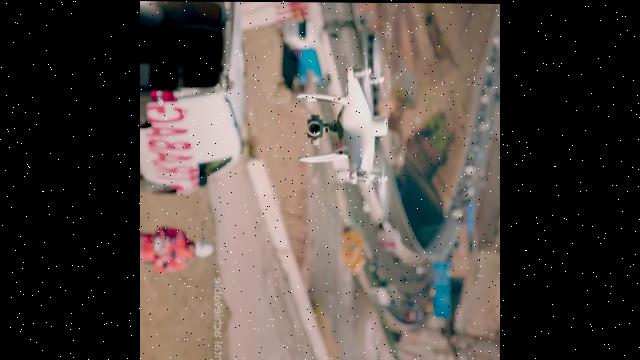drone: (296, 28, 392, 220)
